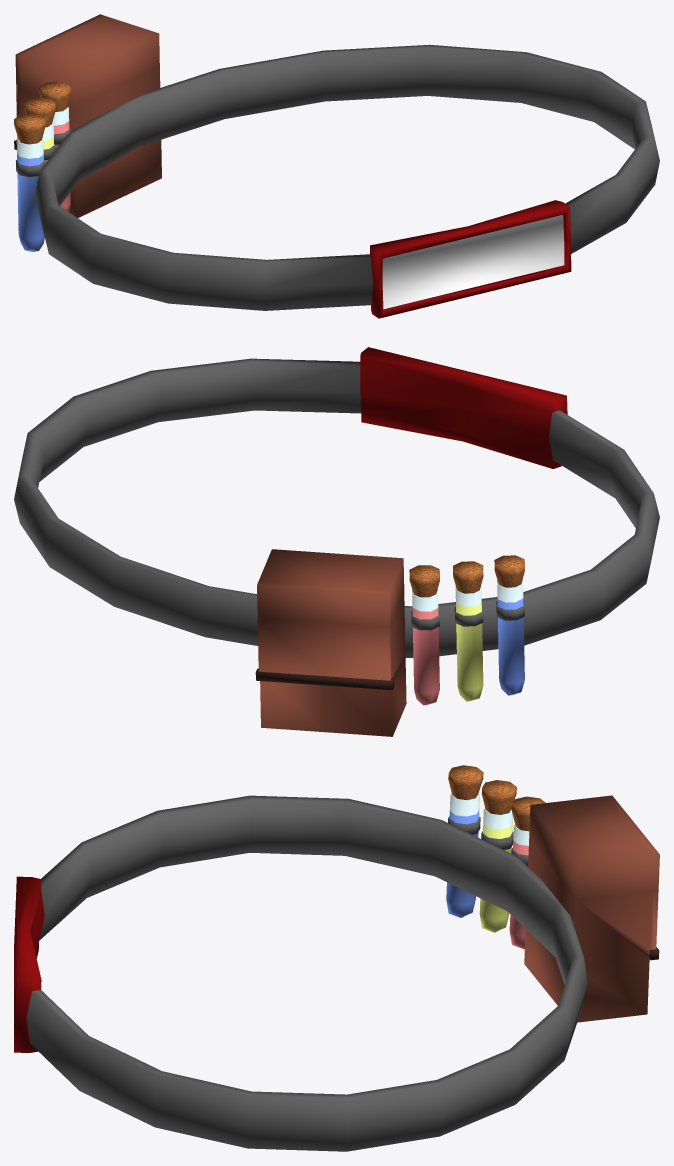
Rendered from 511_Belt_Red.fbx.
The picture shows the model from 3 angles, top to bottom: view 1: azimuth 30°, elevation 25°; view 2: azimuth 150°, elevation 25°; view 3: azimuth 270°, elevation 25°; orthographic projection. The views are drawn at different scales.
Parts seen in each view (by area): view 1: Belt001; view 2: Belt001; view 3: Belt001.
Part boxes in pixels (left/top/right/bottom): Belt001: left=14, top=14, right=659, bottom=318; Belt001: left=14, top=347, right=659, bottom=736; Belt001: left=14, top=765, right=659, bottom=1151.
Bounding box in the file's own units: 200 × 49.59 × 178.
